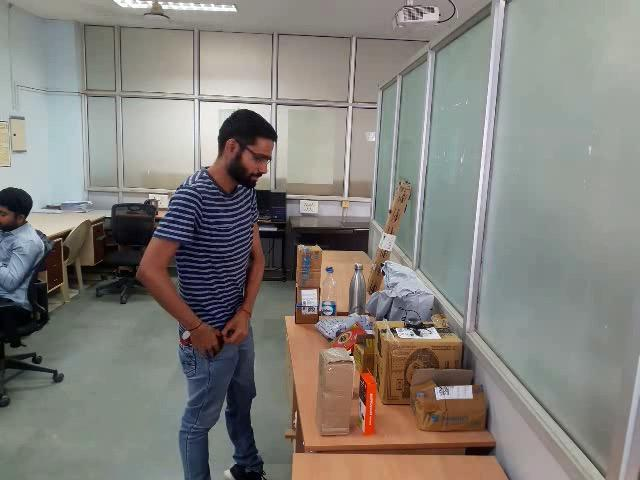Shoplifting: (133, 89, 315, 480)
